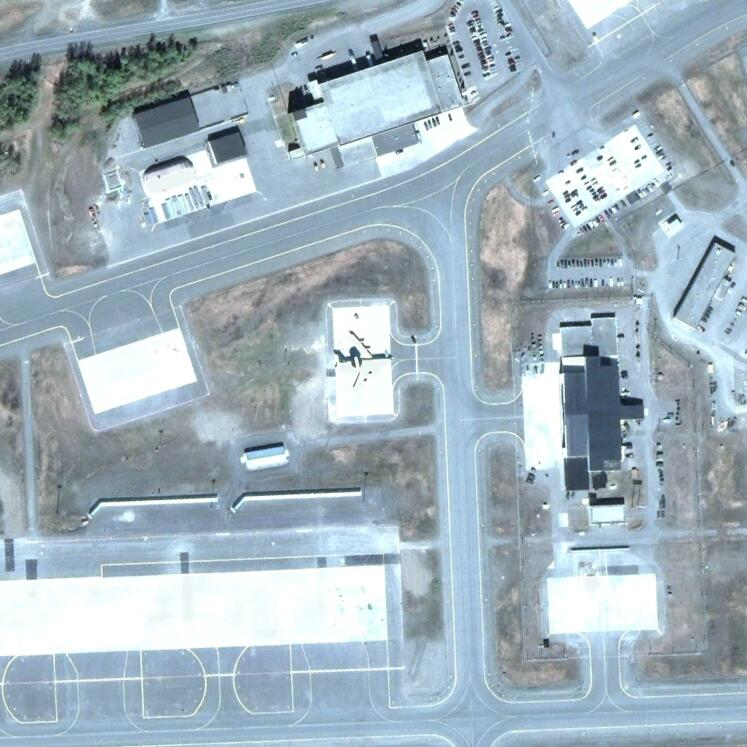A7: (333, 329, 392, 390)
